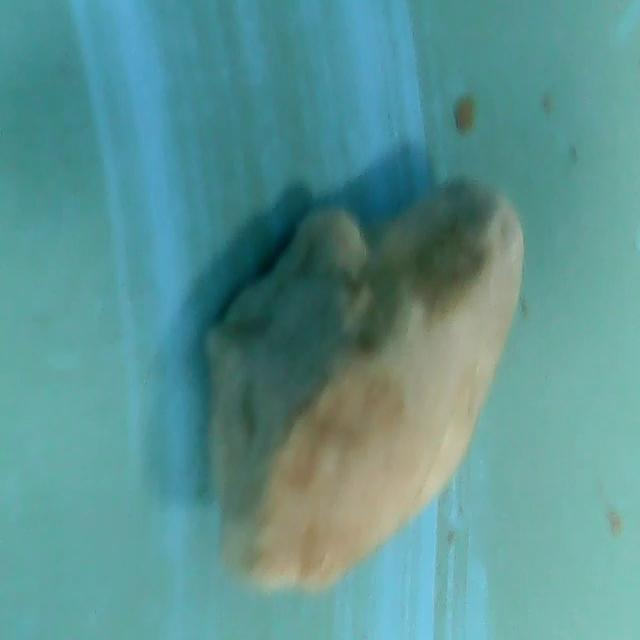rock: (194, 181, 534, 610)
